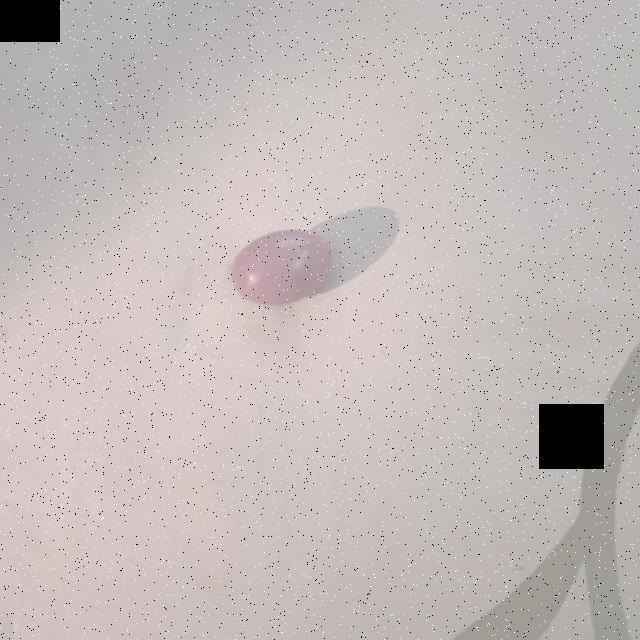egg: (230, 227, 336, 310)
